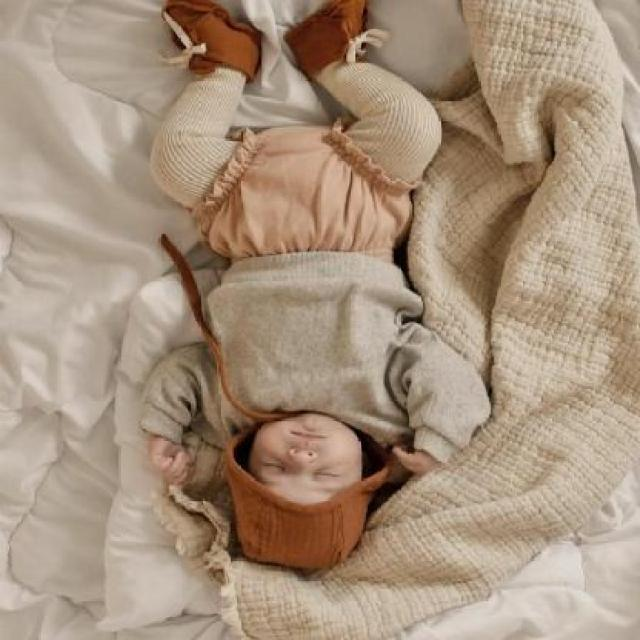baby: (134, 2, 492, 576)
